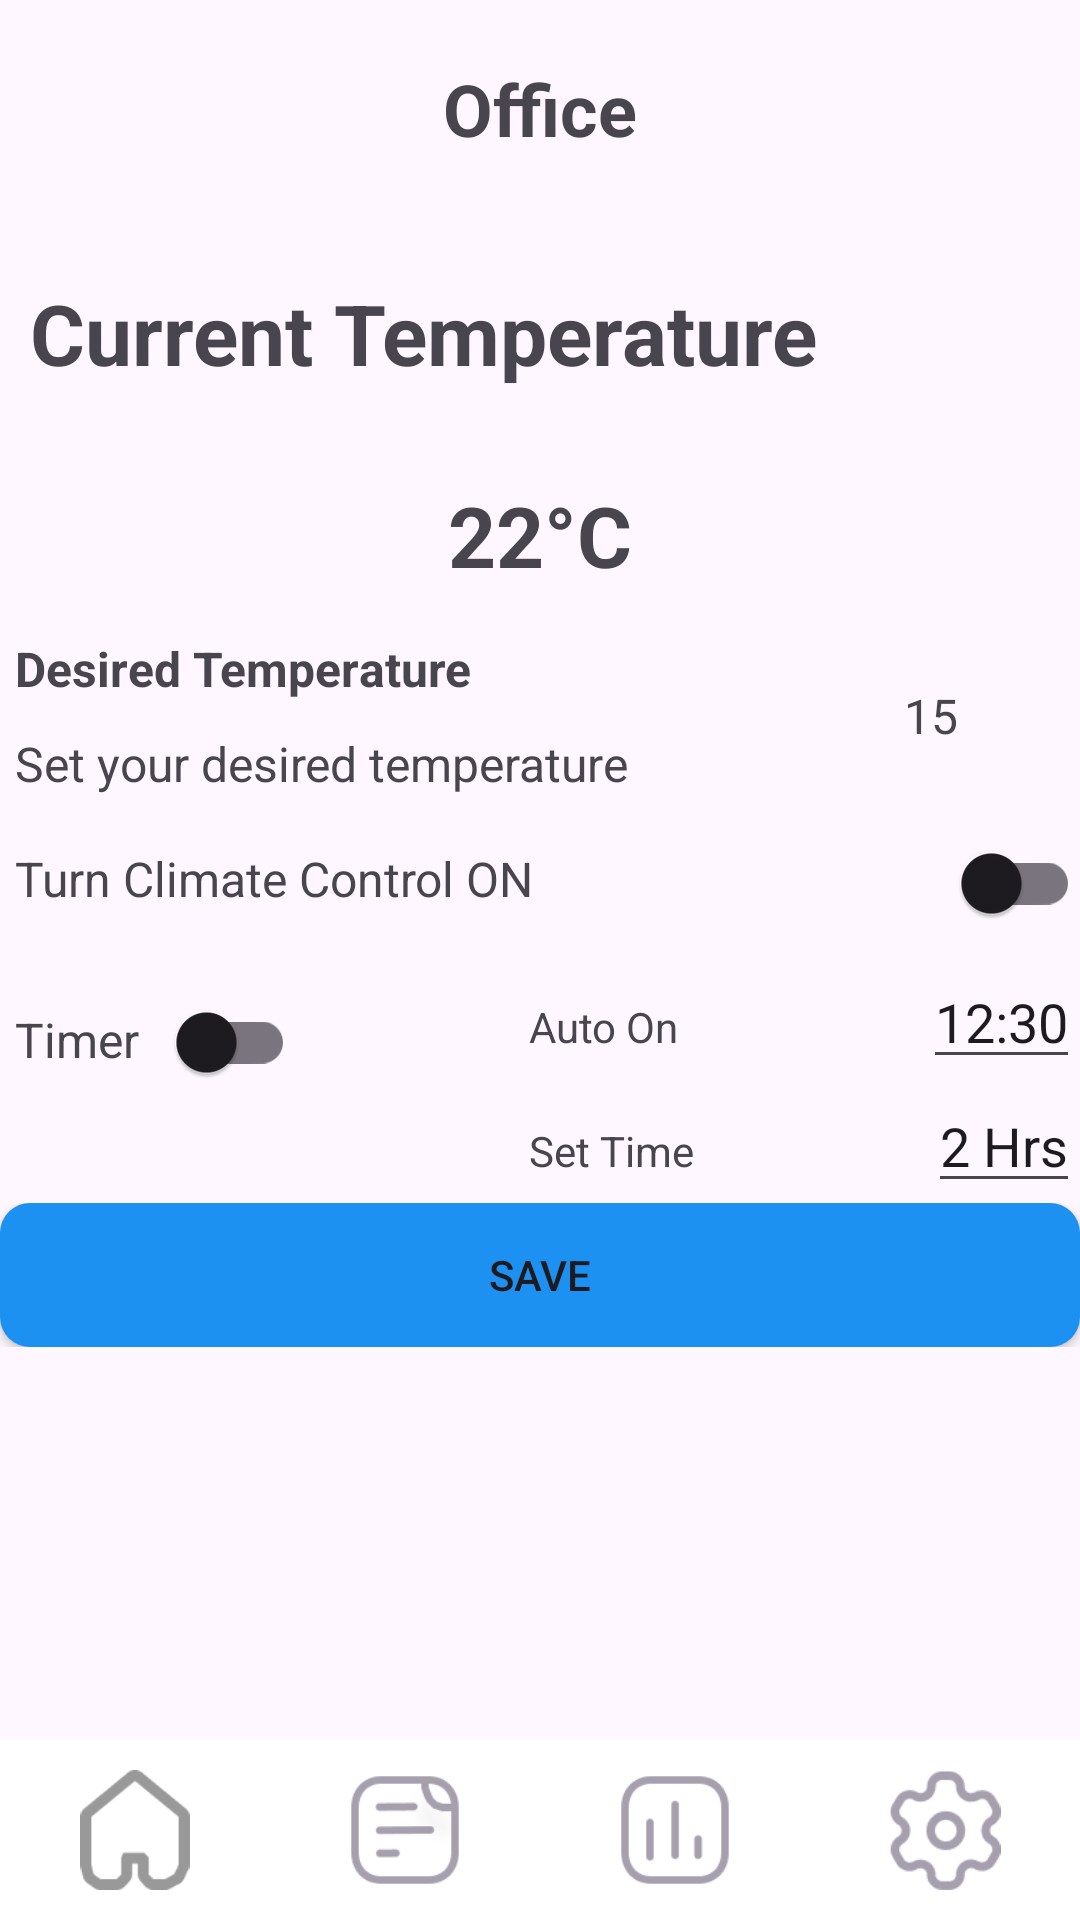

Where to tap for icons on this 1080w x 1920h app screen, as (x=x, y=y):
home: (x=135, y=1830)
settings: (x=945, y=1830)
